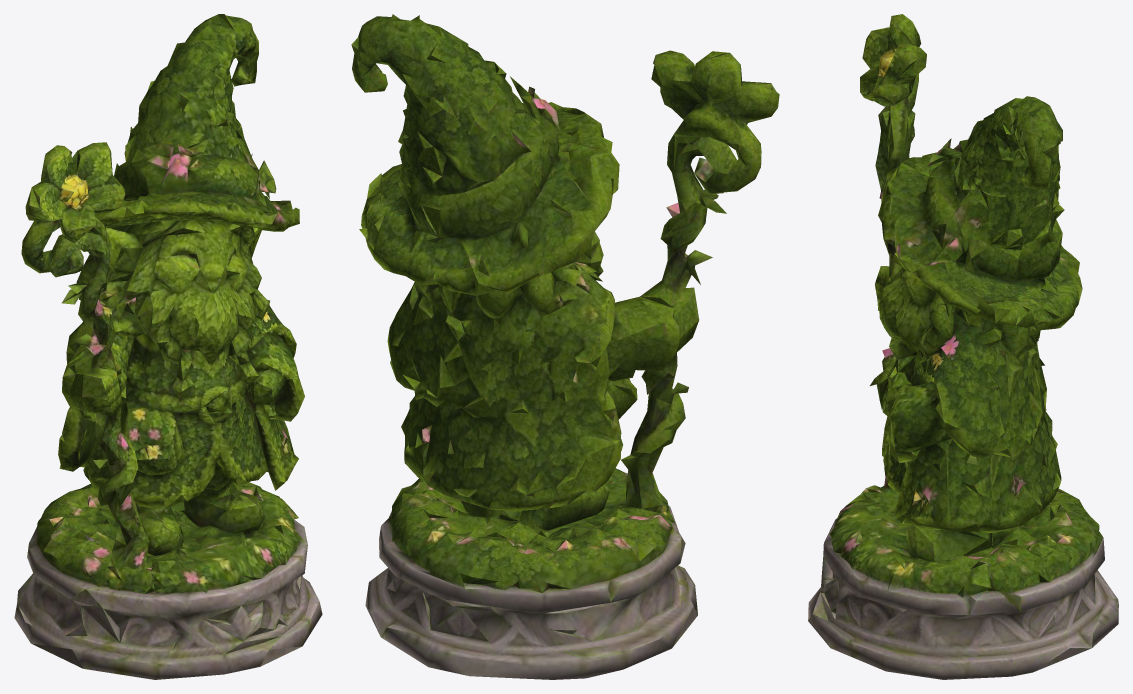
File: topiary-witch.glb
The picture shows the model from 3 angles, left to right: view 1: azimuth 30°, elevation 25°; view 2: azimuth 150°, elevation 25°; view 3: azimuth 270°, elevation 25°; orthographic projection. The views are drawn at different scales.
Bounding box in the file's own units: 1.21 × 2 × 1.01.
Materials: 1 (1 with a texture image).
